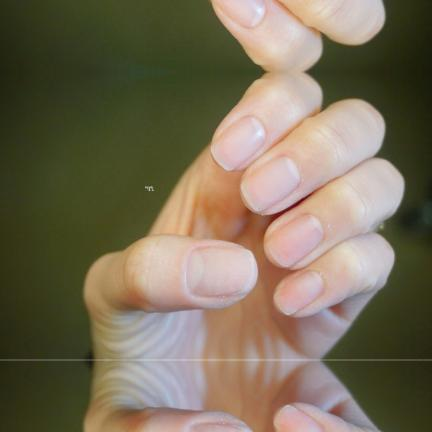Nail: (185, 246, 255, 298), (241, 155, 300, 211), (211, 116, 266, 170), (267, 214, 324, 266), (274, 270, 325, 314), (274, 404, 324, 432), (214, 0, 266, 26), (187, 421, 252, 432)
